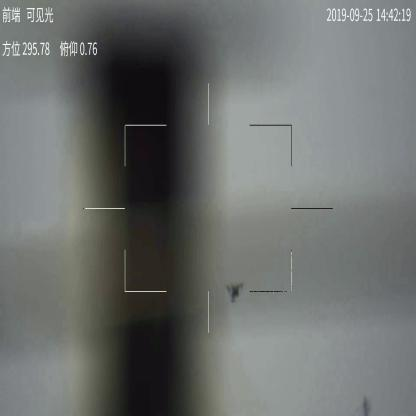uav: (228, 281, 246, 302)
